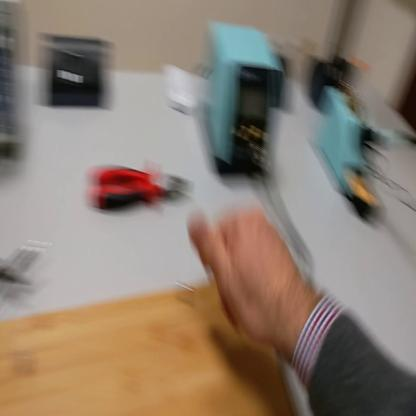hand: (189, 205, 299, 349)
oscilloscope: (2, 2, 28, 161)
oscilloscope probe tip: (2, 263, 35, 297)
pliers: (87, 157, 193, 211)
socket: (306, 50, 354, 111), (275, 55, 296, 111)
welder base: (326, 59, 388, 231)
welder probe tip: (364, 131, 415, 155)
welder station: (203, 22, 284, 179)
working area: (1, 282, 303, 415)
